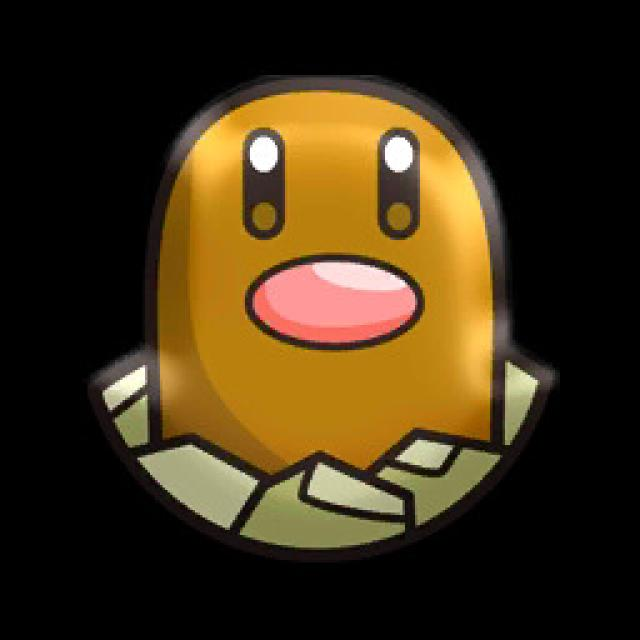Diglett: (143, 66, 520, 475)
